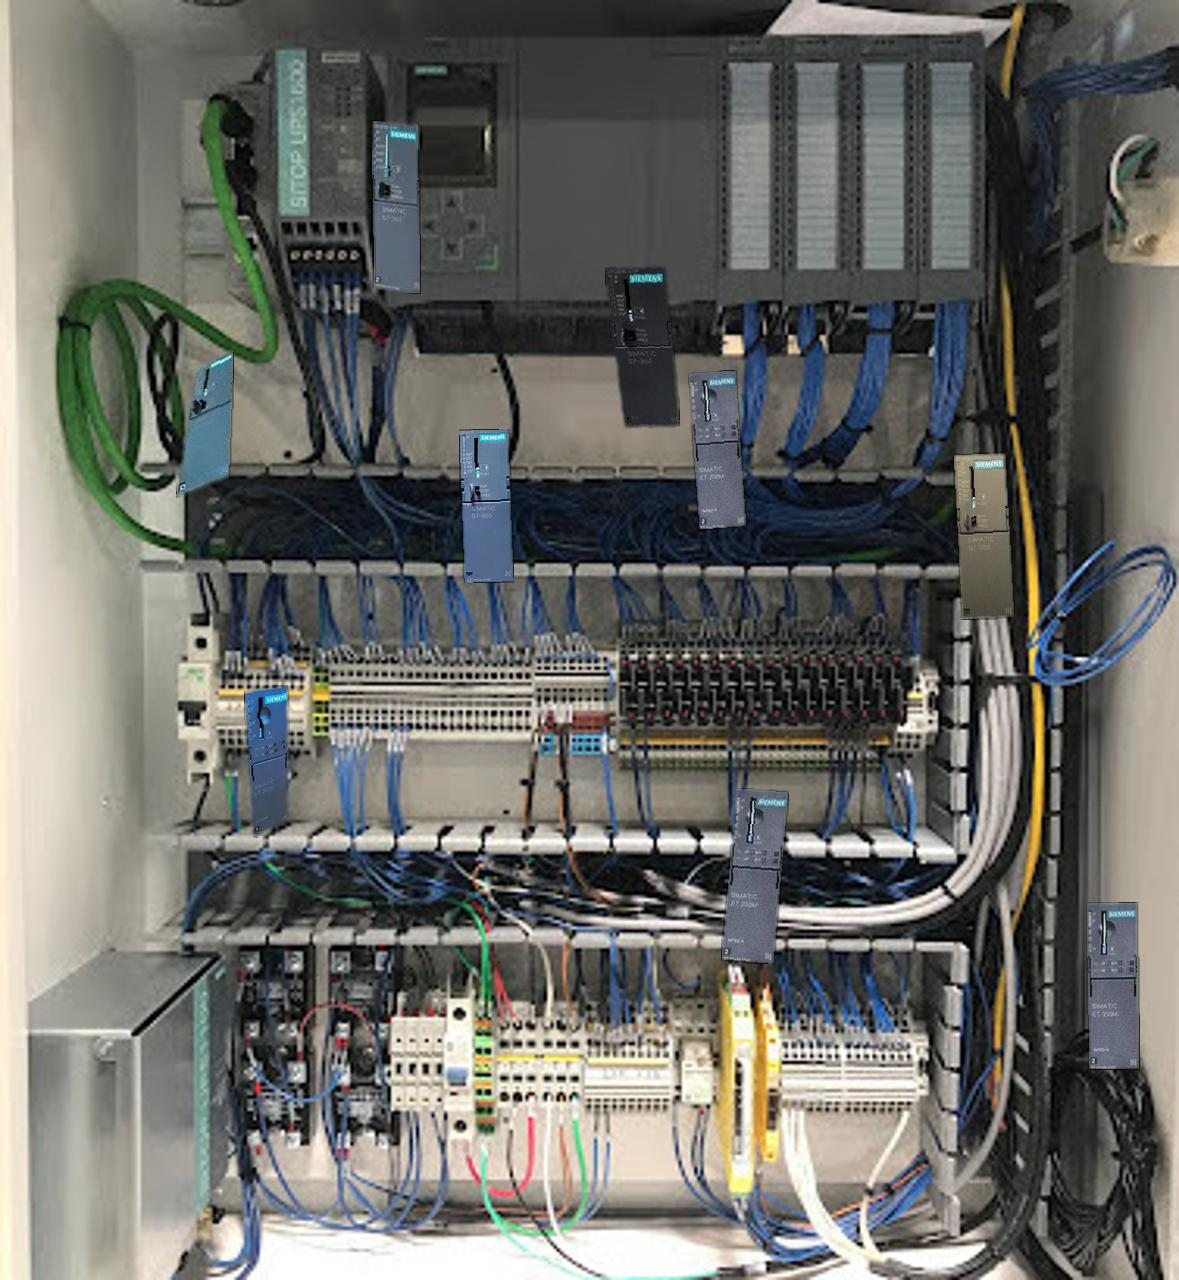Siemens: (605, 266, 679, 427), (954, 454, 1013, 618), (176, 350, 233, 495), (460, 429, 513, 582), (373, 122, 419, 292)
